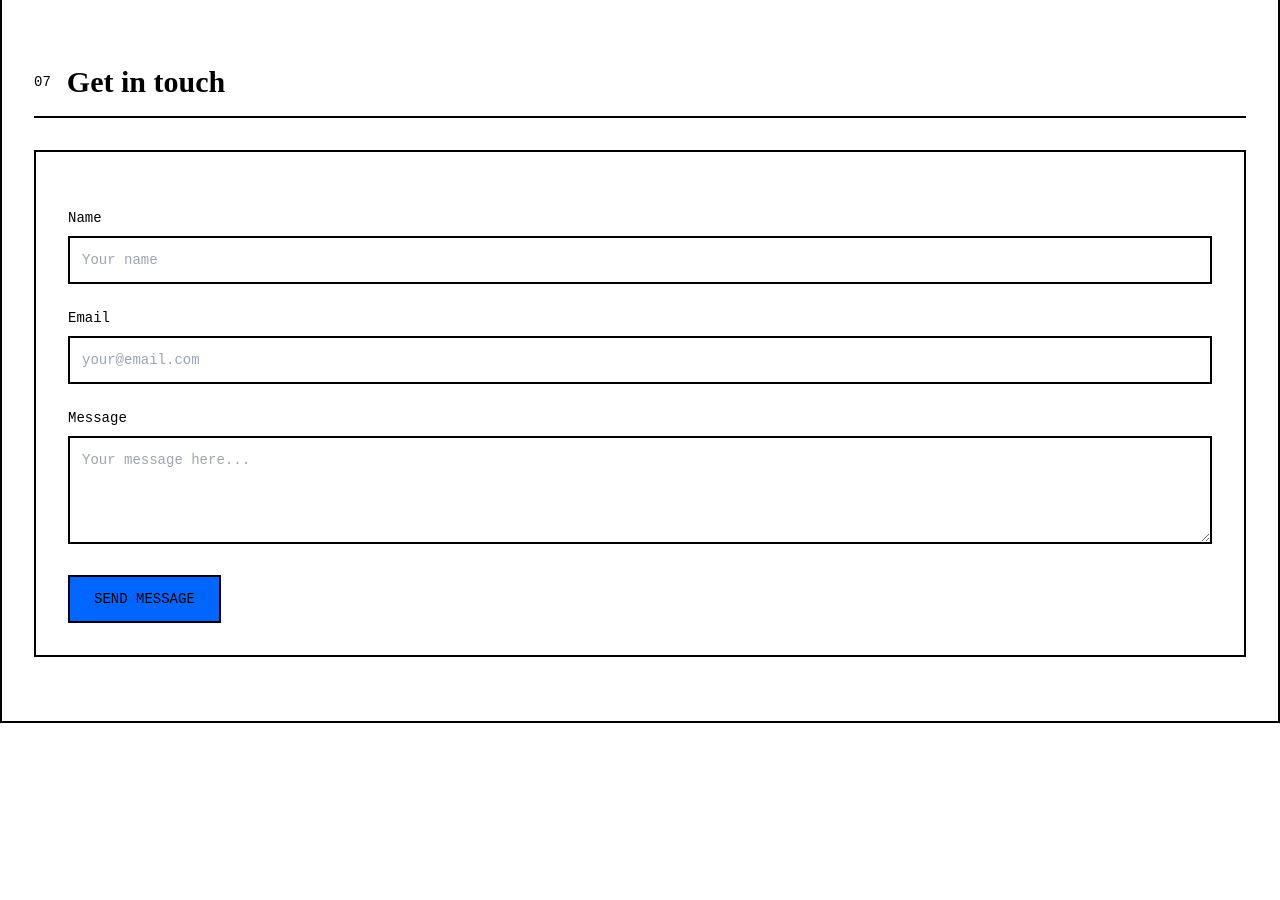
Test: Contact › submits valid input and shows success
The image size is (1280, 900).
In the field labelled "Name": [640, 260] box left=68, top=236, right=1212, bottom=284, type "Ana"
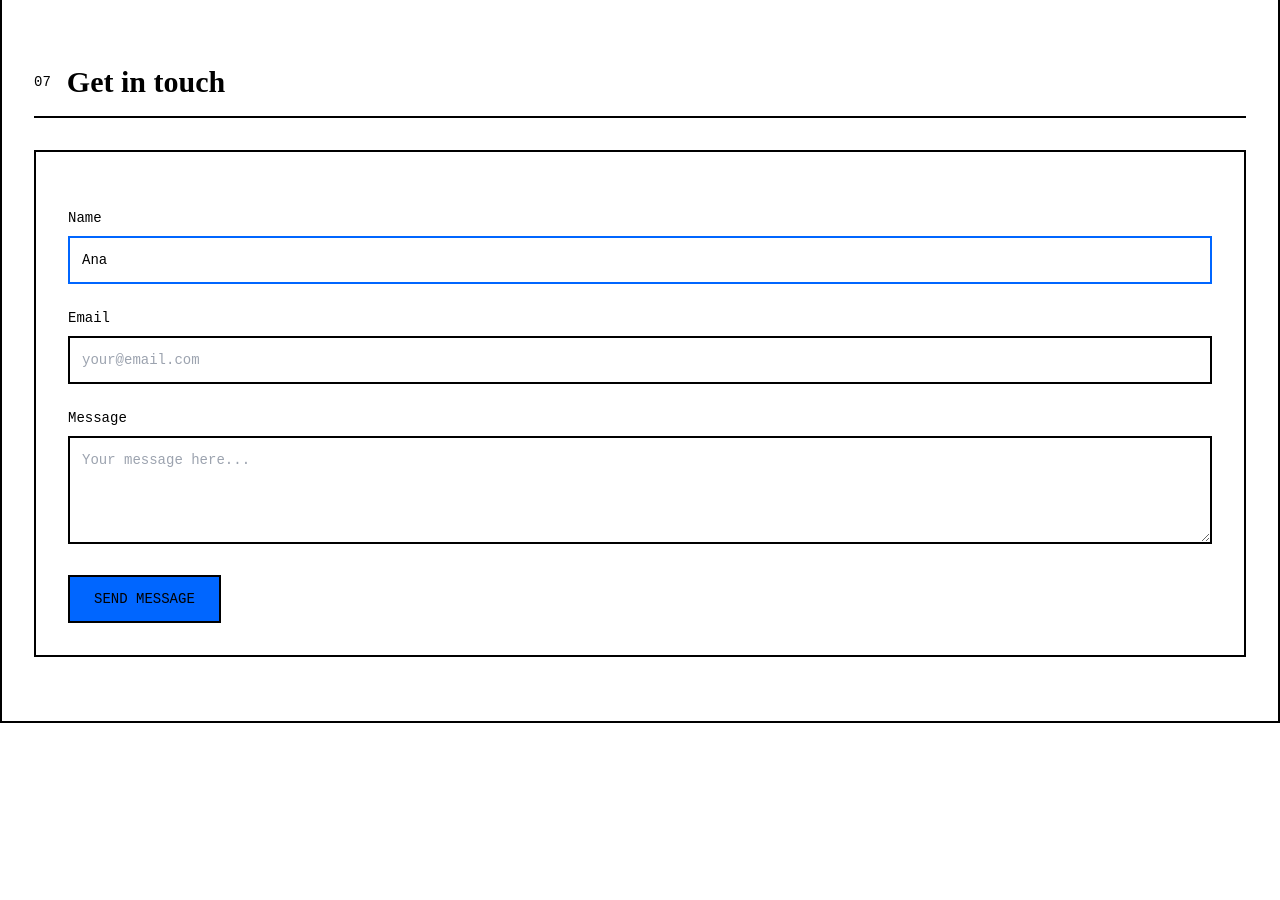
In the field labelled "Email": [640, 360] box left=68, top=336, right=1212, bottom=384, type "a@b.co"
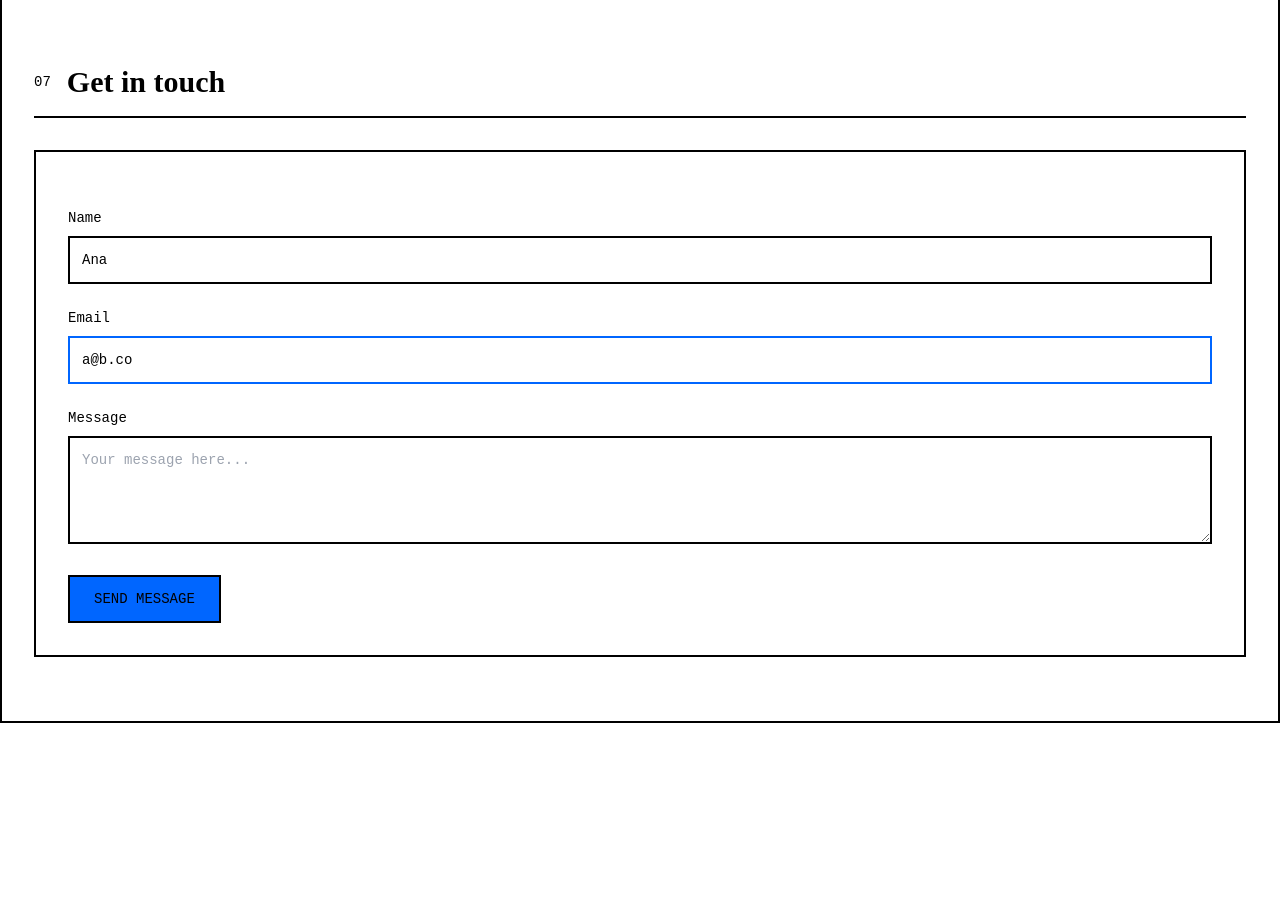
In the text box labelled "Message": [640, 490] box left=68, top=436, right=1212, bottom=544, type "Hello there world"
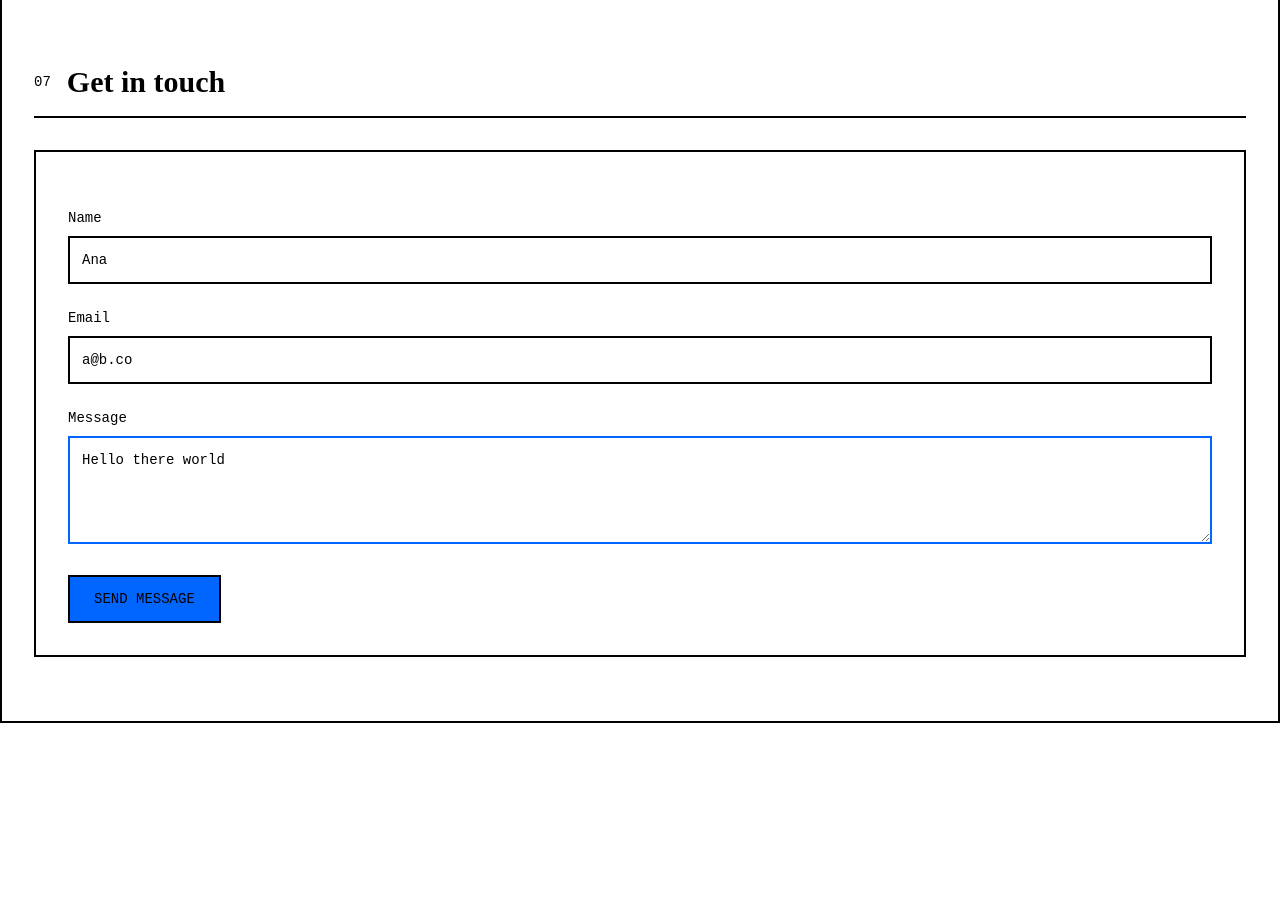
Click the button "SEND MESSAGE": [144, 599] box left=68, top=575, right=221, bottom=623
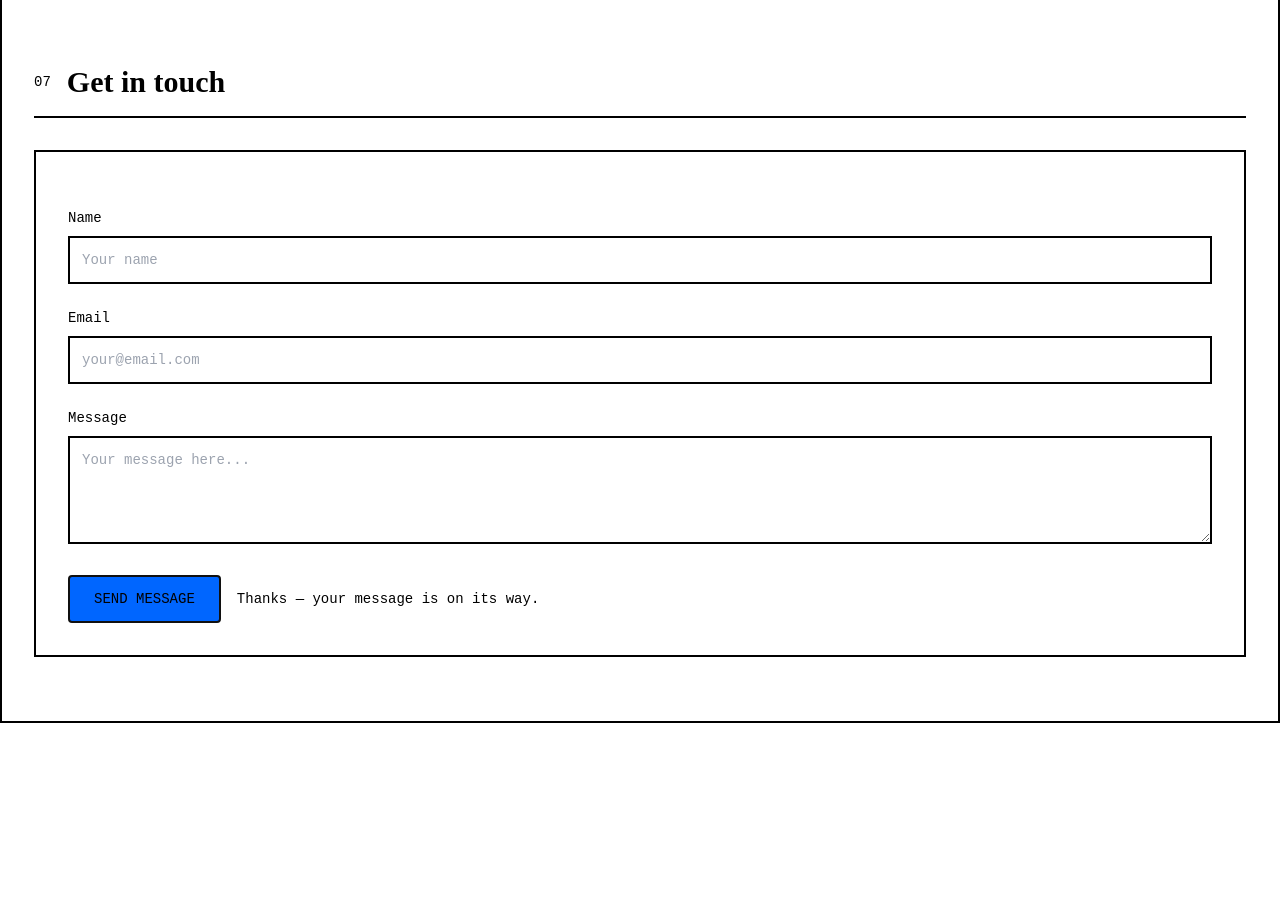
Expected: the text "Thanks — your message is on its way." is shown, left=237, top=589, right=539, bottom=609
